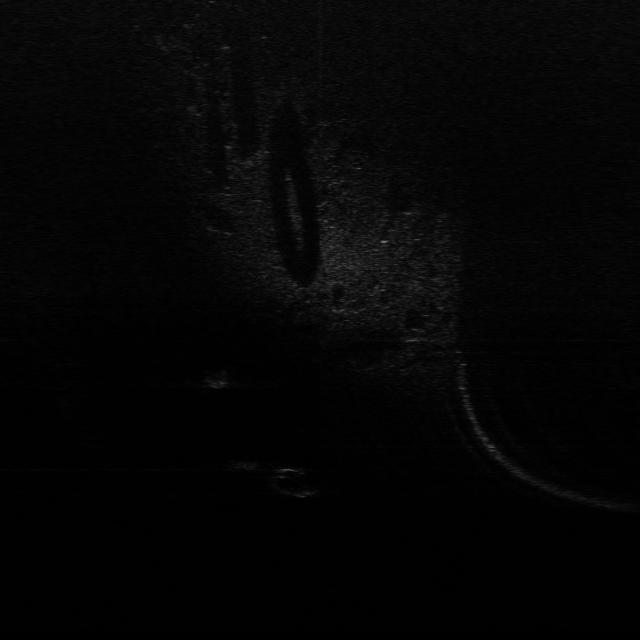cube: (223, 456, 263, 472)
square cage: (200, 366, 230, 388)
tyre: (267, 465, 321, 498)
